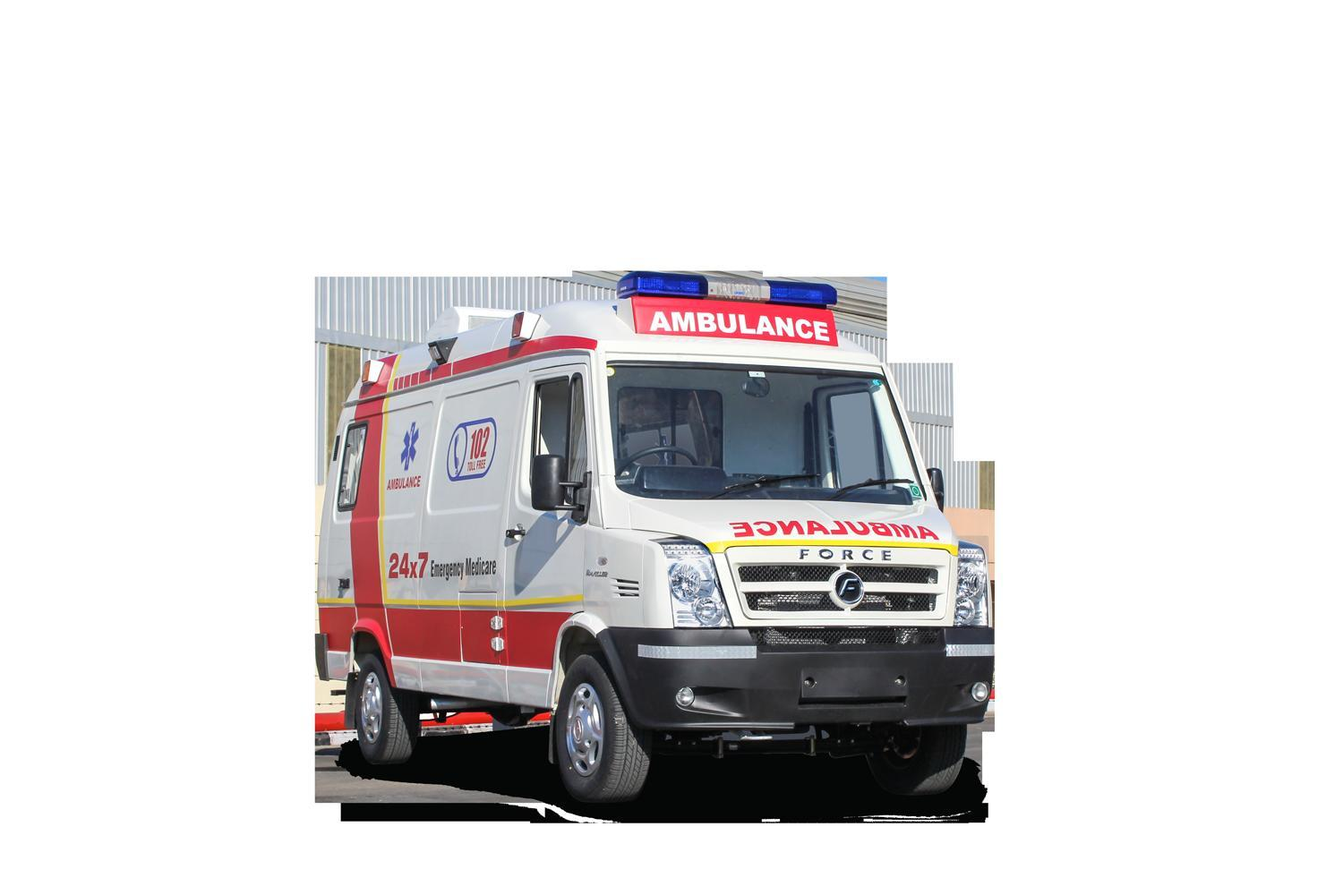Ambulance: (636, 301, 855, 356), (726, 517, 953, 550), (391, 423, 424, 470)
